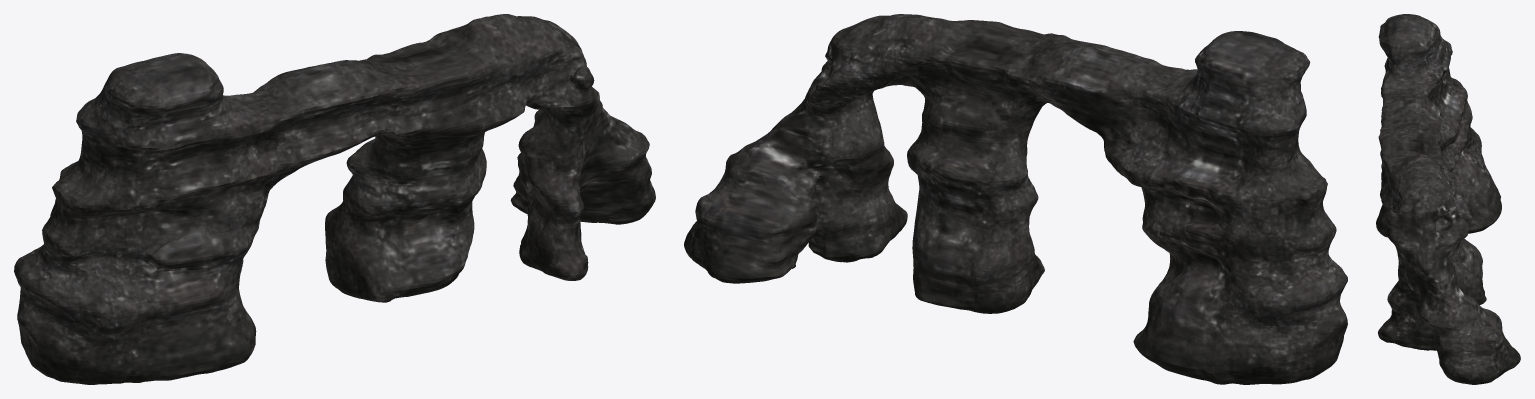
The picture shows the model from 3 angles, left to right: view 1: azimuth 30°, elevation 25°; view 2: azimuth 150°, elevation 25°; view 3: azimuth 270°, elevation 25°; orthographic projection. The views are drawn at different scales.
Visible parts, largest first — view 1: Node; view 2: Node; view 3: Node.
Part boxes in pixels (left/top/right/bottom): Node: left=14, top=14, right=655, bottom=384; Node: left=684, top=14, right=1347, bottom=384; Node: left=1376, top=14, right=1520, bottom=384.
Bounding box in the file's own units: 1.93 × 0.8638 × 0.573.
Materials: 1 (1 with a texture image).
